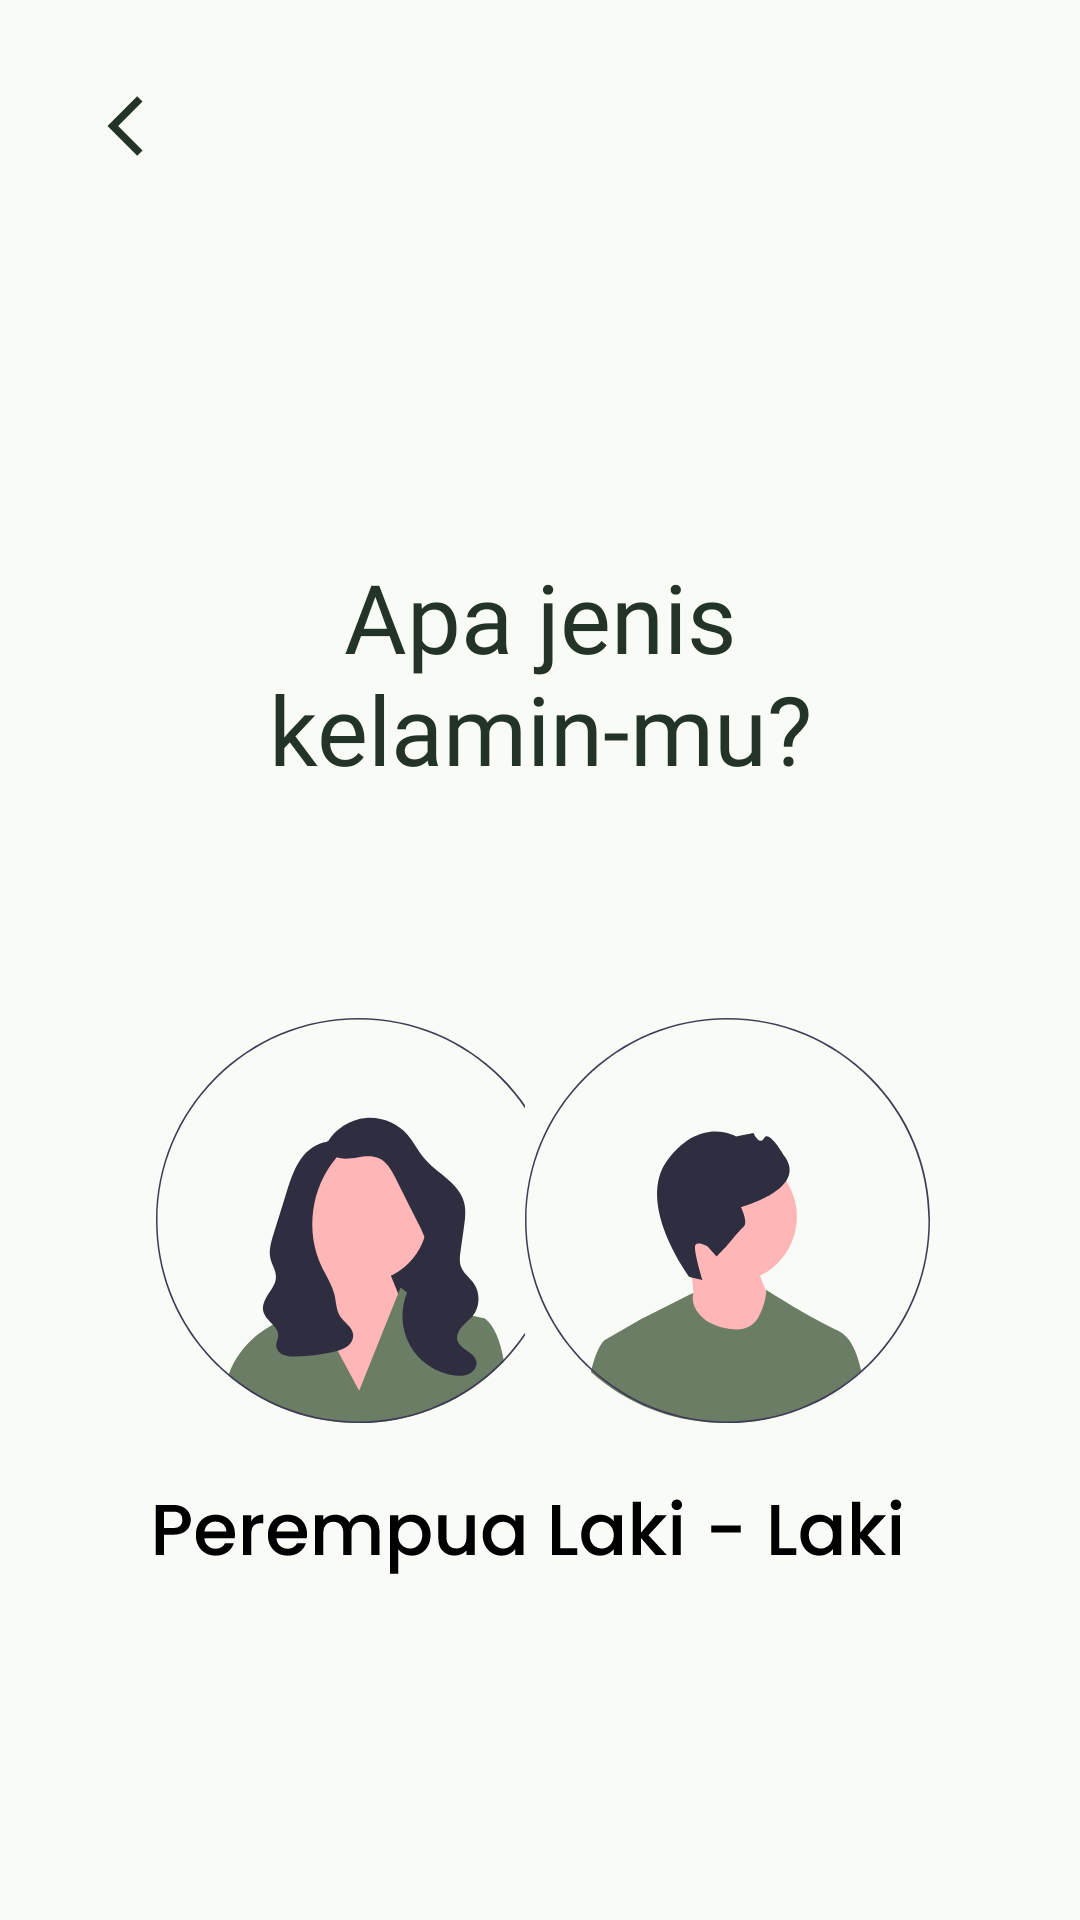

Icons on this 1080w x 1920h Android screen, each with the point to tap as point (x, y):
back: point (125, 126)
